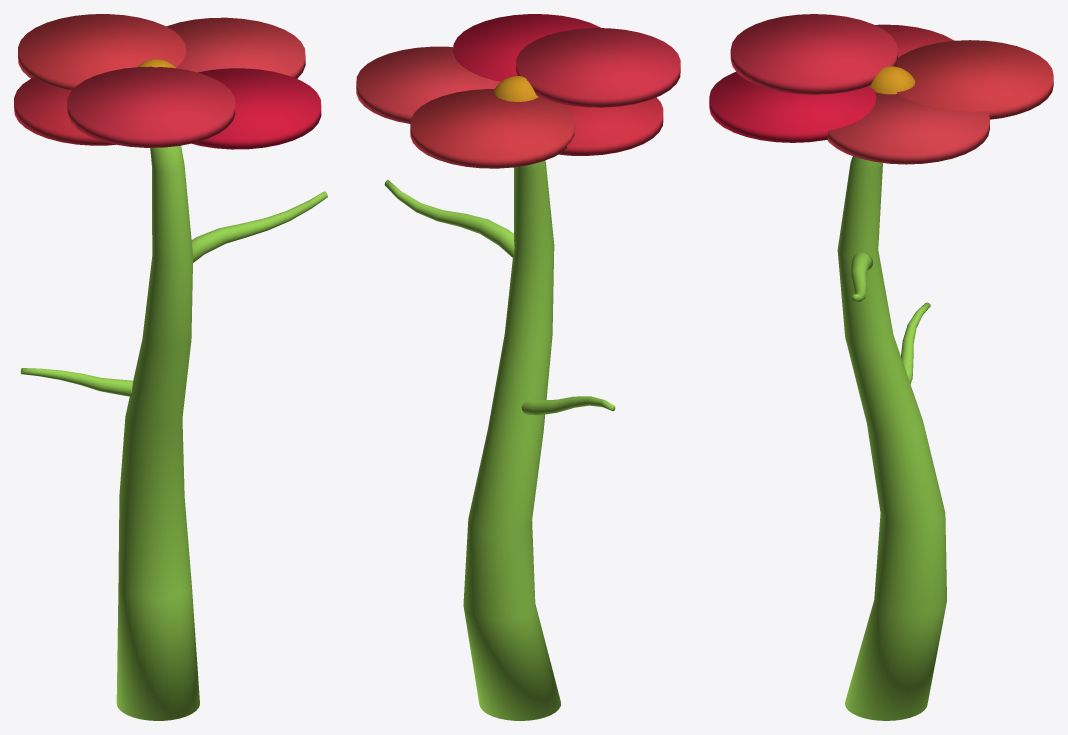
Rendered from fleur.fbx.
The picture shows the model from 3 angles, left to right: view 1: azimuth 30°, elevation 25°; view 2: azimuth 150°, elevation 25°; view 3: azimuth 270°, elevation 25°; orthographic projection. The views are drawn at different scales.
Parts seen in each view (by area): view 1: Cylinder, Cylinder.004, Cylinder.002, Cylinder.003, Cylinder.001, Cylinder.005, Cylinder.007, Cylinder.006; view 2: Cylinder, Cylinder.004, Cylinder.002, Cylinder.001, Cylinder.003, Cylinder.005, Cylinder.007, Cylinder.006, Sphere; view 3: Cylinder, Cylinder.004, Cylinder.002, Cylinder.001, Cylinder.003, Cylinder.005, Sphere, Cylinder.006, Cylinder.007.
Boxes of the visible parts, x1,y1,x2,y2 form: Cylinder: (116,145,199,720); Cylinder.004: (67,66,235,147); Cylinder.002: (18,14,186,89); Cylinder.003: (192,68,321,149); Cylinder.001: (166,17,305,78); Cylinder.005: (14,77,115,145); Cylinder.007: (191,191,327,262); Cylinder.006: (20,368,132,396); Cylinder: (463,160,560,720); Cylinder.004: (516,28,680,107); Cylinder.002: (410,89,574,168); Cylinder.001: (356,46,500,123); Cylinder.003: (453,14,600,81); Cylinder.005: (559,97,663,155); Cylinder.007: (384,179,514,257); Cylinder.006: (521,396,615,415); Sphere: (494,76,538,101); Cylinder: (837,156,946,720); Cylinder.004: (730,14,897,94); Cylinder.002: (896,40,1053,119); Cylinder.001: (827,92,989,164); Cylinder.003: (709,72,876,142); Cylinder.005: (875,24,953,57); Sphere: (868,66,915,94); Cylinder.006: (901,302,930,383); Cylinder.007: (851,252,872,302).
Size of the model in its own units: 71.18 by 152 by 74.63.
